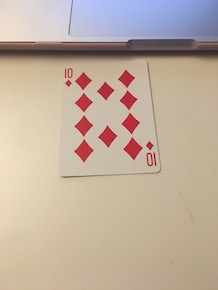TenOfDiamonds: (57, 54, 162, 185)
